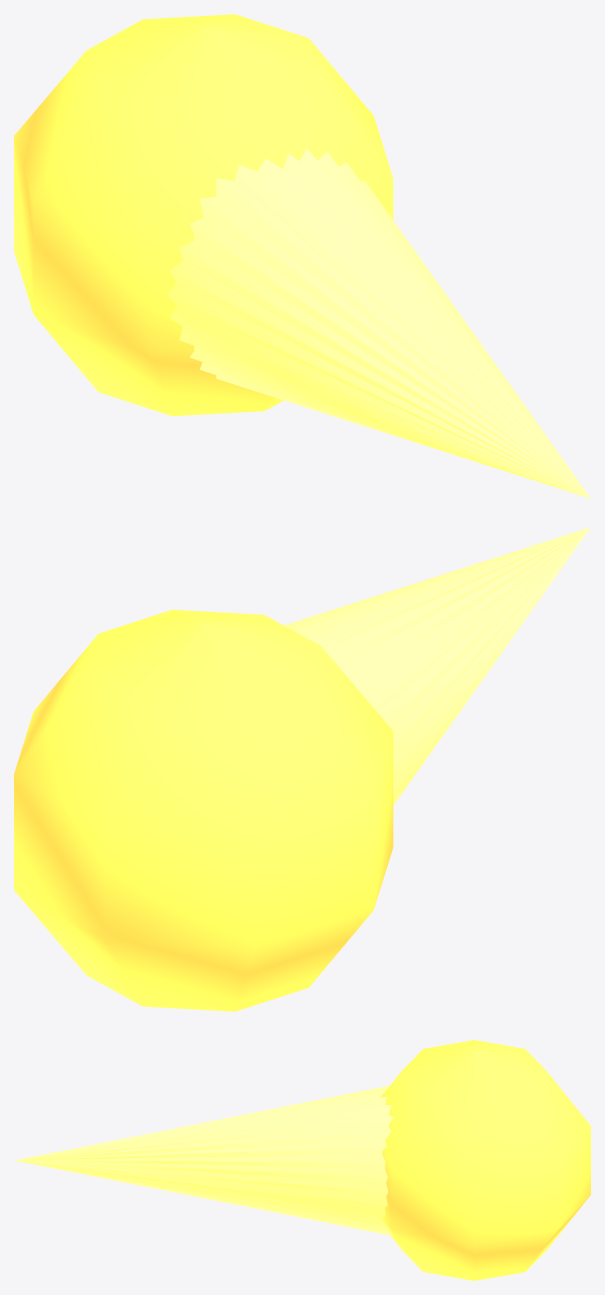
Rendered from lb4_muzzle.glb.
3 views of the same model, one above another, from view 1: azimuth 30°, elevation 25°; view 2: azimuth 150°, elevation 25°; view 3: azimuth 270°, elevation 25° (orthographic). The views are drawn at different scales.
Parts seen in each view (by area): view 1: lb4_muzzle; view 2: lb4_muzzle; view 3: lb4_muzzle.
Part boxes in pixels (x1,y1,x2,y2): lb4_muzzle: (14,14,590,498); lb4_muzzle: (14,527,590,1011); lb4_muzzle: (14,1040,590,1280).
Size of the model in its own units: 0.1522 by 0.16 by 0.3761.
